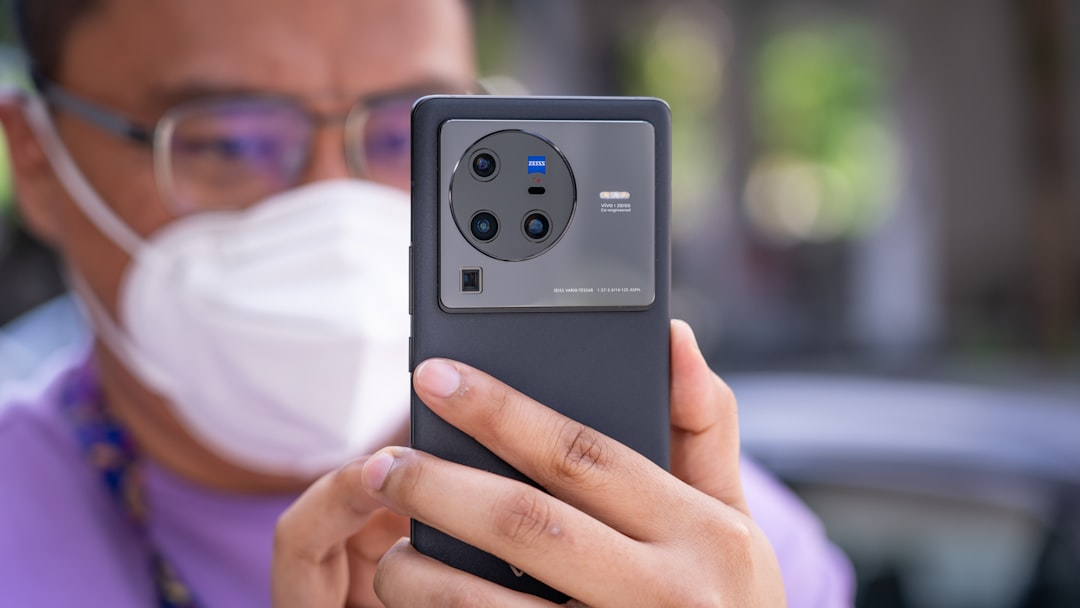phone: (408, 93, 672, 606)
